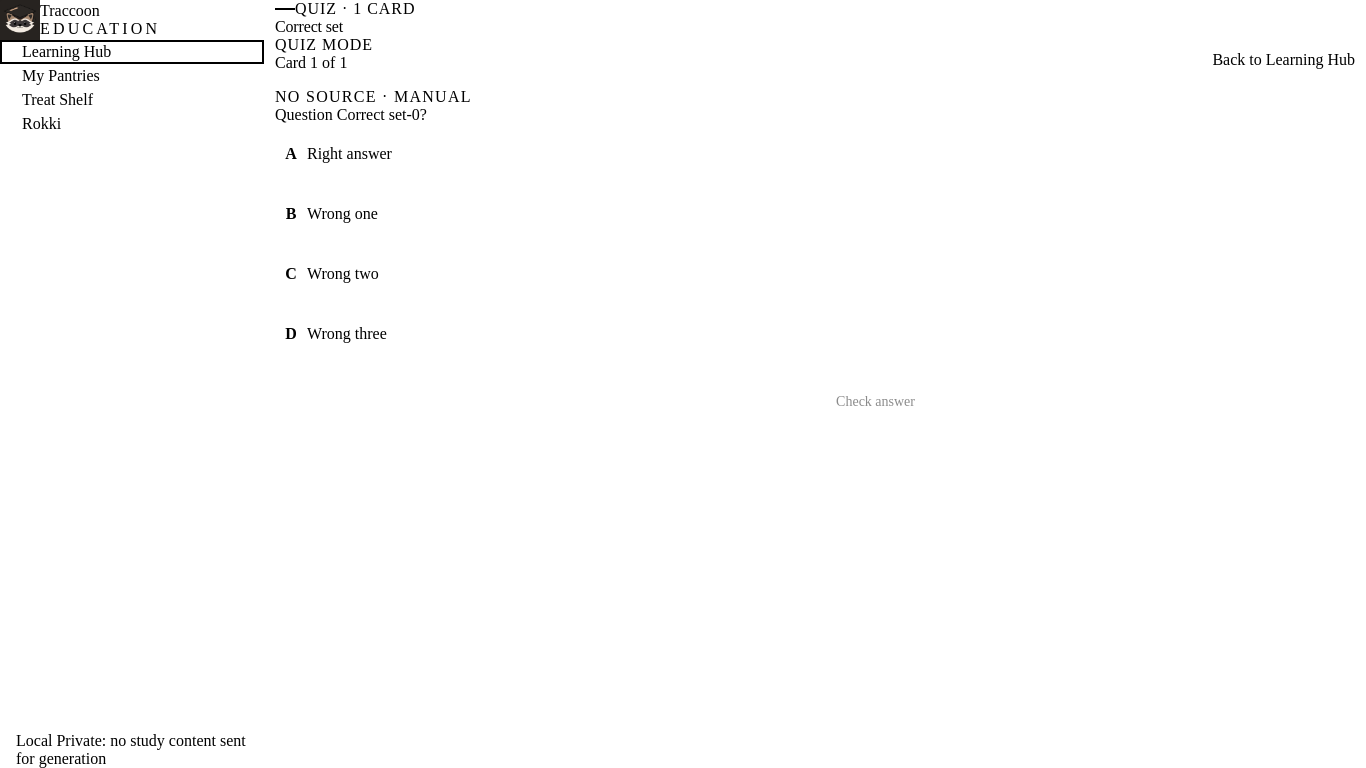
Learning Hub quiz › shows the stored ingredient after a correct answer and saves it with the attempt
This screenshot has width=1366, height=768.
Click the button "A Right answer": (349, 154) [275, 124, 915, 184]
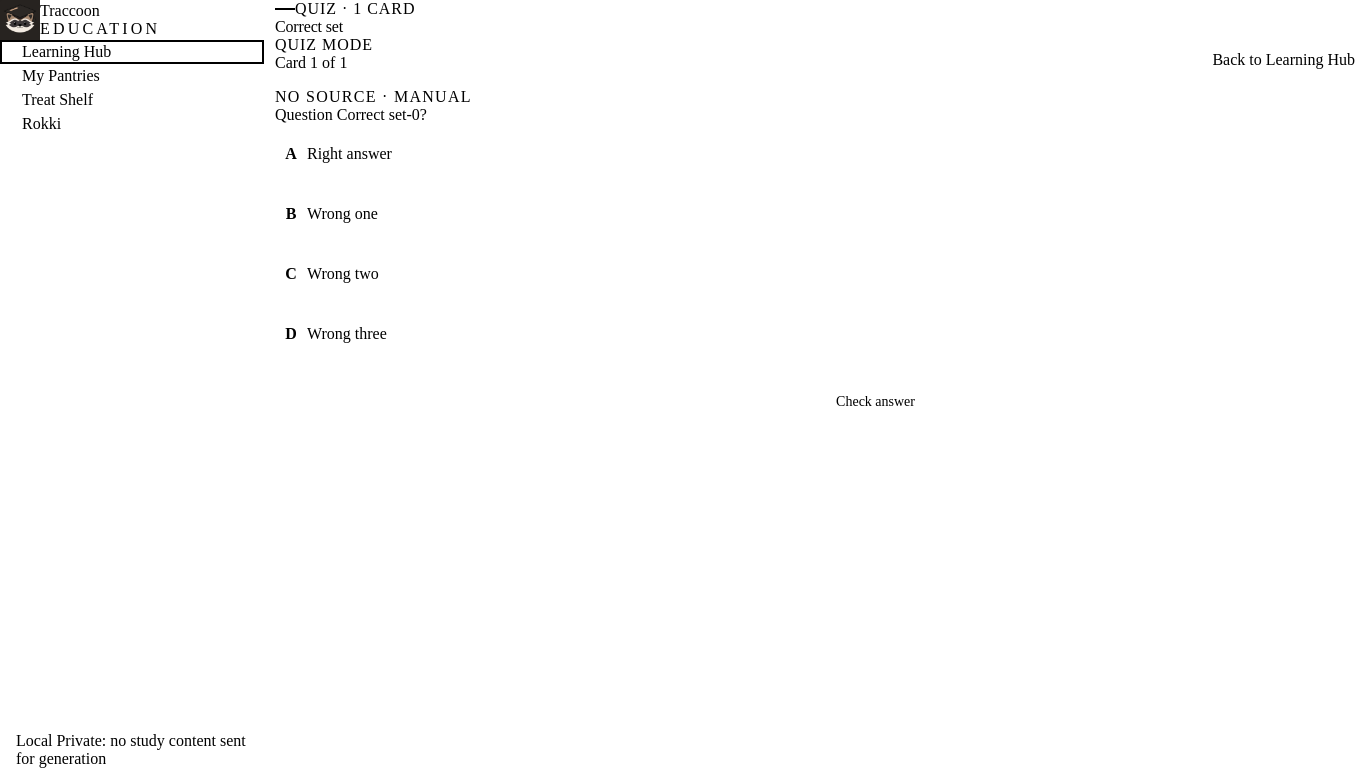
Click the button "Check answer": (876, 402) [836, 380, 915, 424]
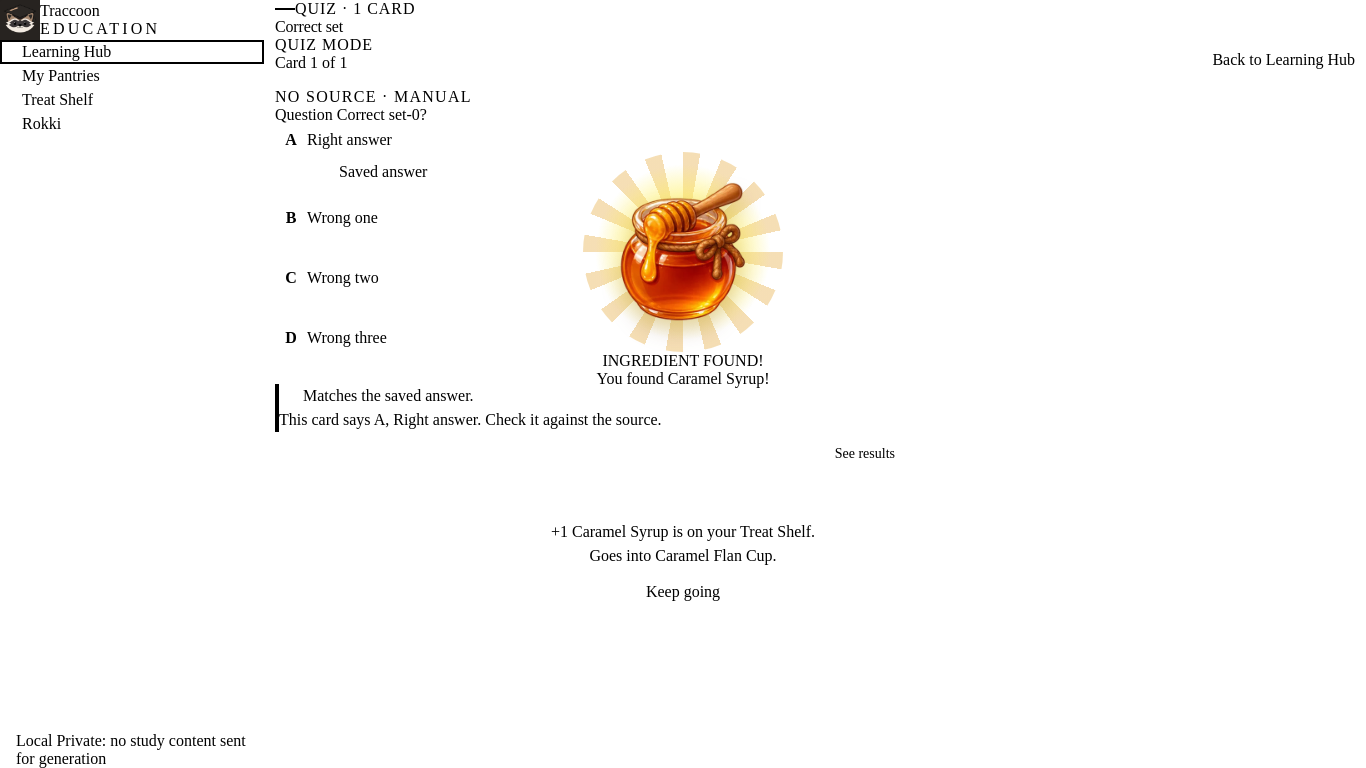
Check: the picture named "Caramel Syrup" is shown, box [603, 172, 763, 332]
Click the button "Keep going": (683, 592) [583, 568, 783, 616]
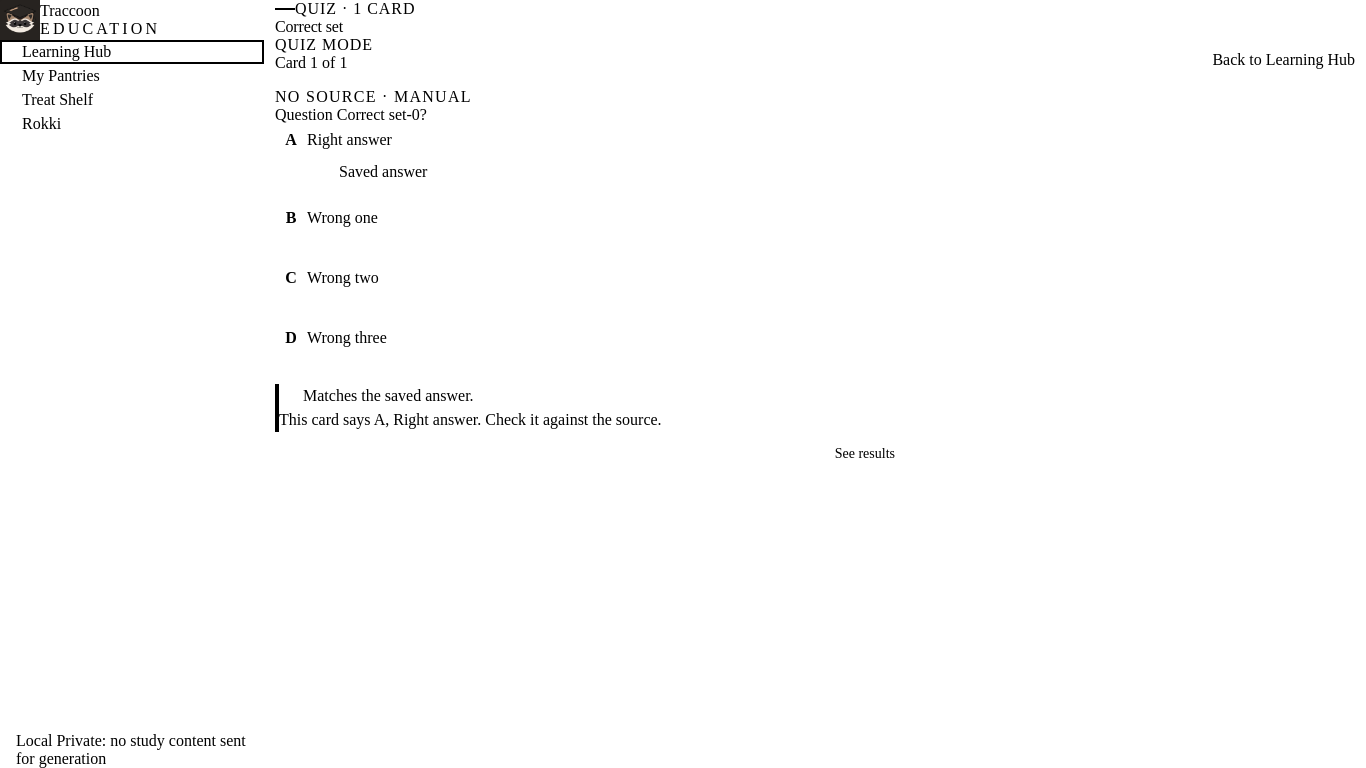
Check: the dialog is gone
Click the button "See results": (875, 454) [835, 432, 915, 476]
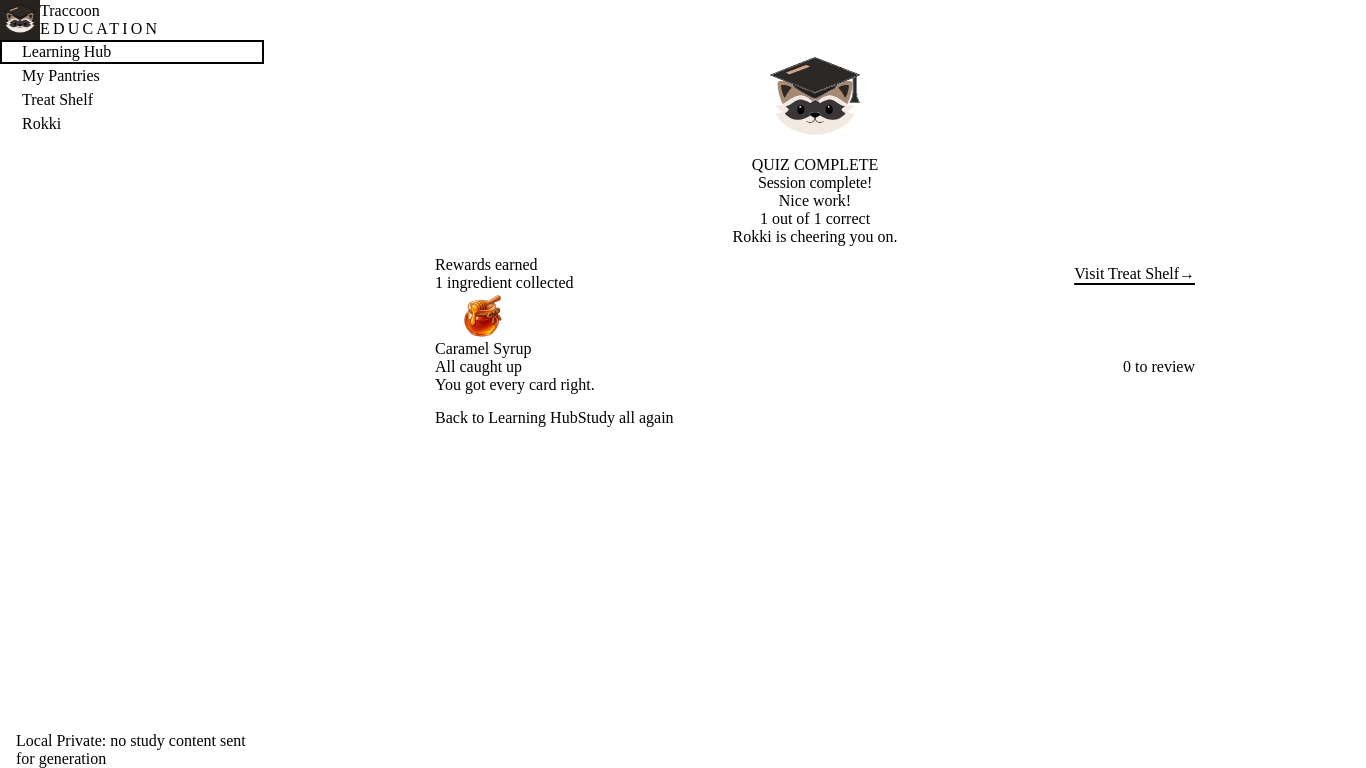
Check: the text "1 ingredient collected" is shown, box [435, 274, 574, 292]
